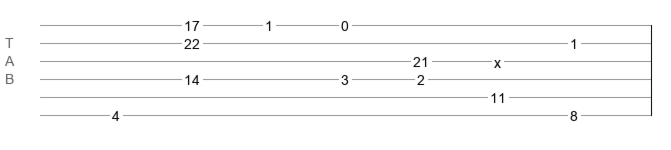0: (341, 18, 349, 28)
1: (265, 18, 273, 28), (570, 36, 578, 46)
11: (490, 90, 506, 100)
14: (184, 72, 200, 82)
17: (184, 18, 200, 28)
2: (417, 72, 425, 82)
21: (413, 54, 429, 64)
22: (184, 36, 200, 46)
3: (341, 72, 349, 82)
4: (112, 108, 120, 118)
8: (570, 108, 578, 118)
x: (494, 55, 501, 63)
